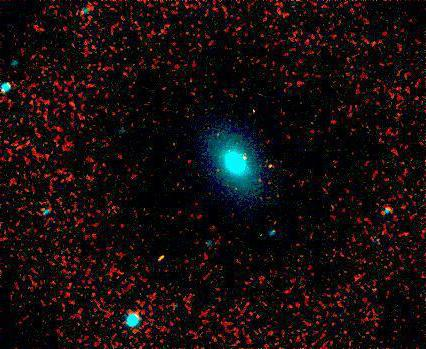star: (255, 152, 285, 182)
